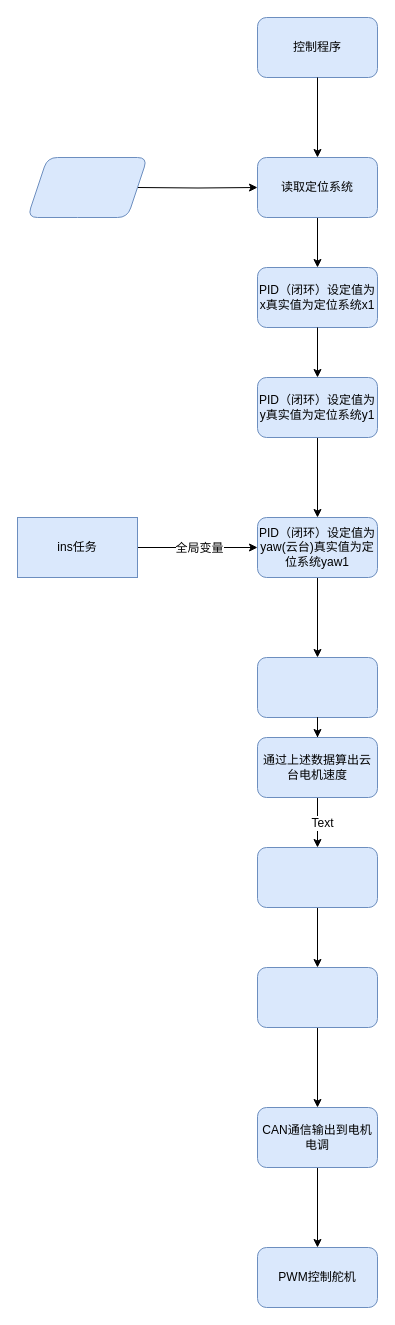
Image size: 395x1325. Some labels were removed from this diagram. Here are the shapes that lost their labels. From the top down, the centre of each, then its label:
point (87, 187): 定位系统
point (317, 687): PID（闭环）设定值为yaw(云台)真实值为定位系统yaw2(底盘)
point (317, 877): 通过上述闭环输出解算出麦克纳姆轮各个电机转速
point (317, 997): 电机转速pid闭环
